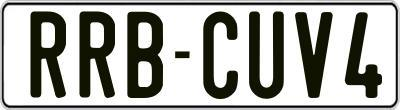4: (343, 11, 381, 101)
B: (124, 12, 164, 100)
C: (203, 12, 242, 103)
R: (29, 9, 68, 97), (79, 9, 116, 96)
U: (248, 9, 286, 97)
V: (294, 11, 334, 103)
